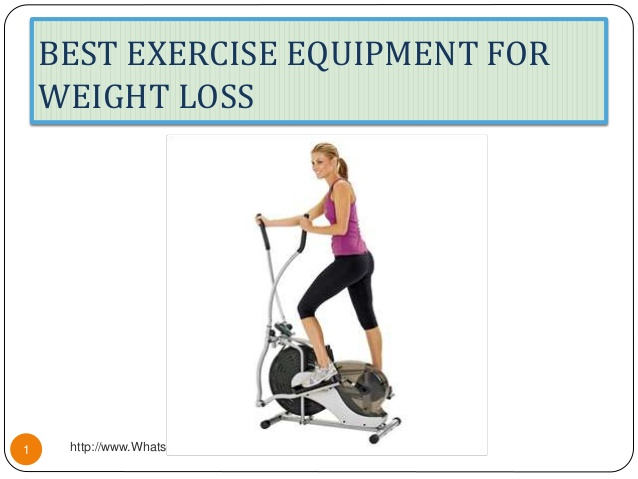gym_bike: (229, 203, 416, 442)
